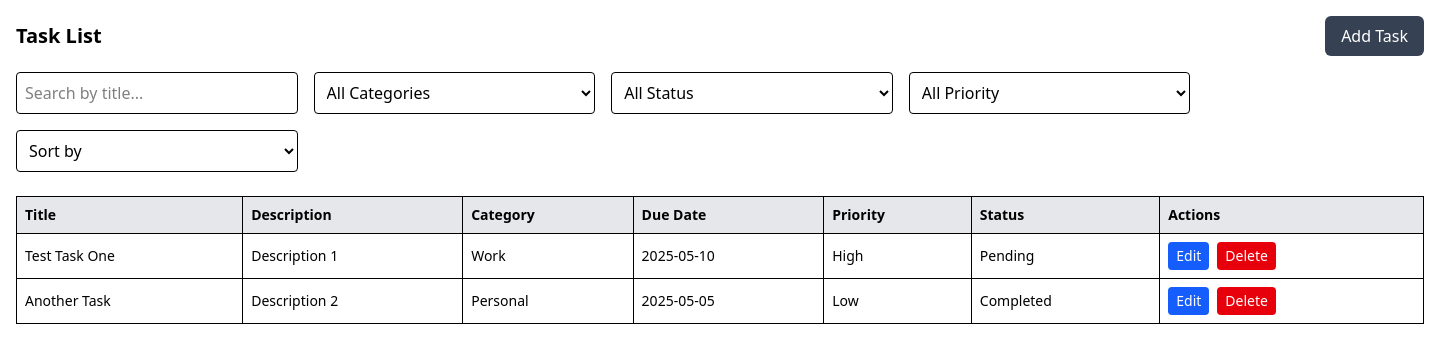
Test: TaskListView.vue › filters tasks by search query
This screenshot has width=1440, height=341.
In the field with placeholder "Search by title...": (157, 93) left=16, top=72, right=298, bottom=114, type "Another"
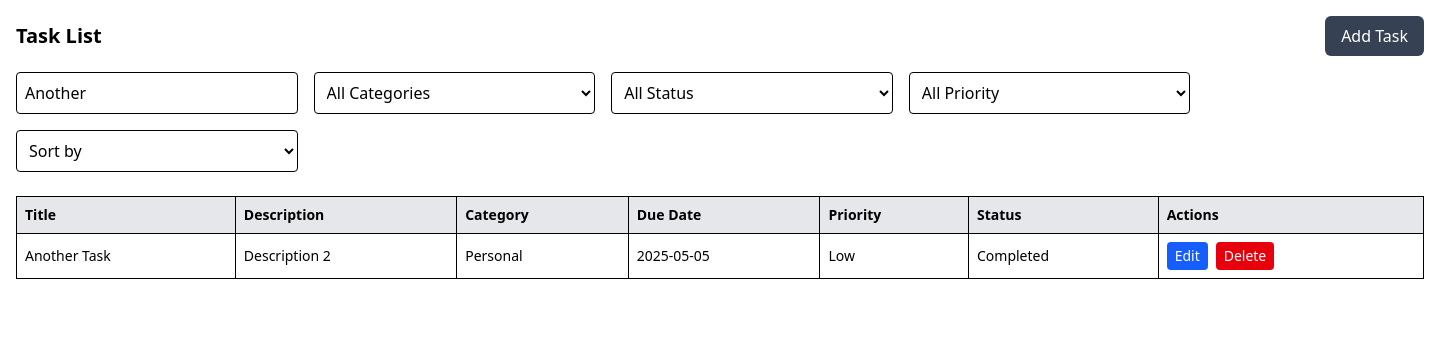
Expected: the text "Another Task" is shown, left=16, top=234, right=235, bottom=278
Expected: the text "Test Task One" is gone
